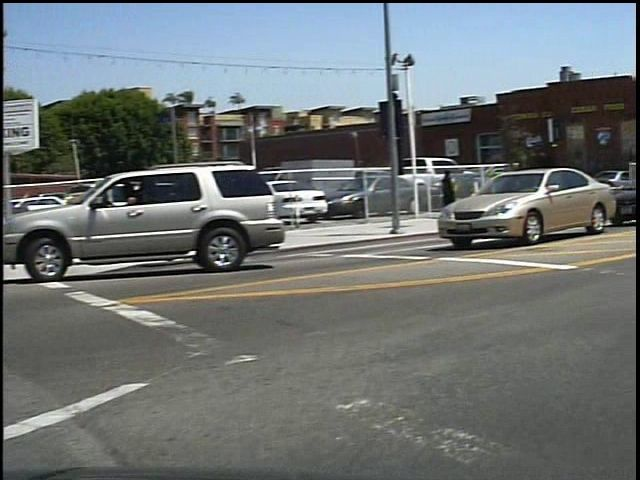person: (446, 165, 472, 223)
